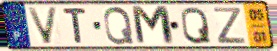M: (129, 5, 177, 47)
Q: (102, 6, 136, 46), (180, 5, 213, 46)
T: (61, 7, 89, 45)
V: (25, 6, 60, 46)
Z: (212, 6, 247, 45)
